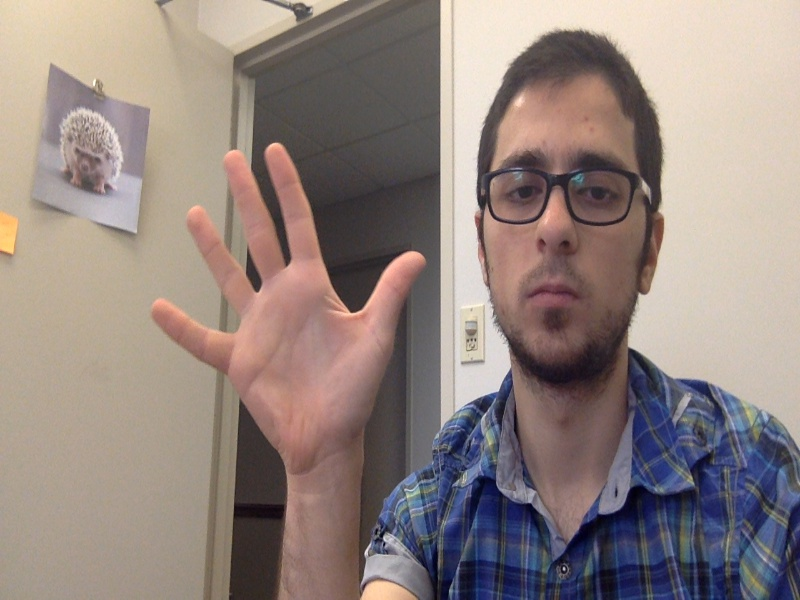5-hand: (148, 141, 431, 462)
